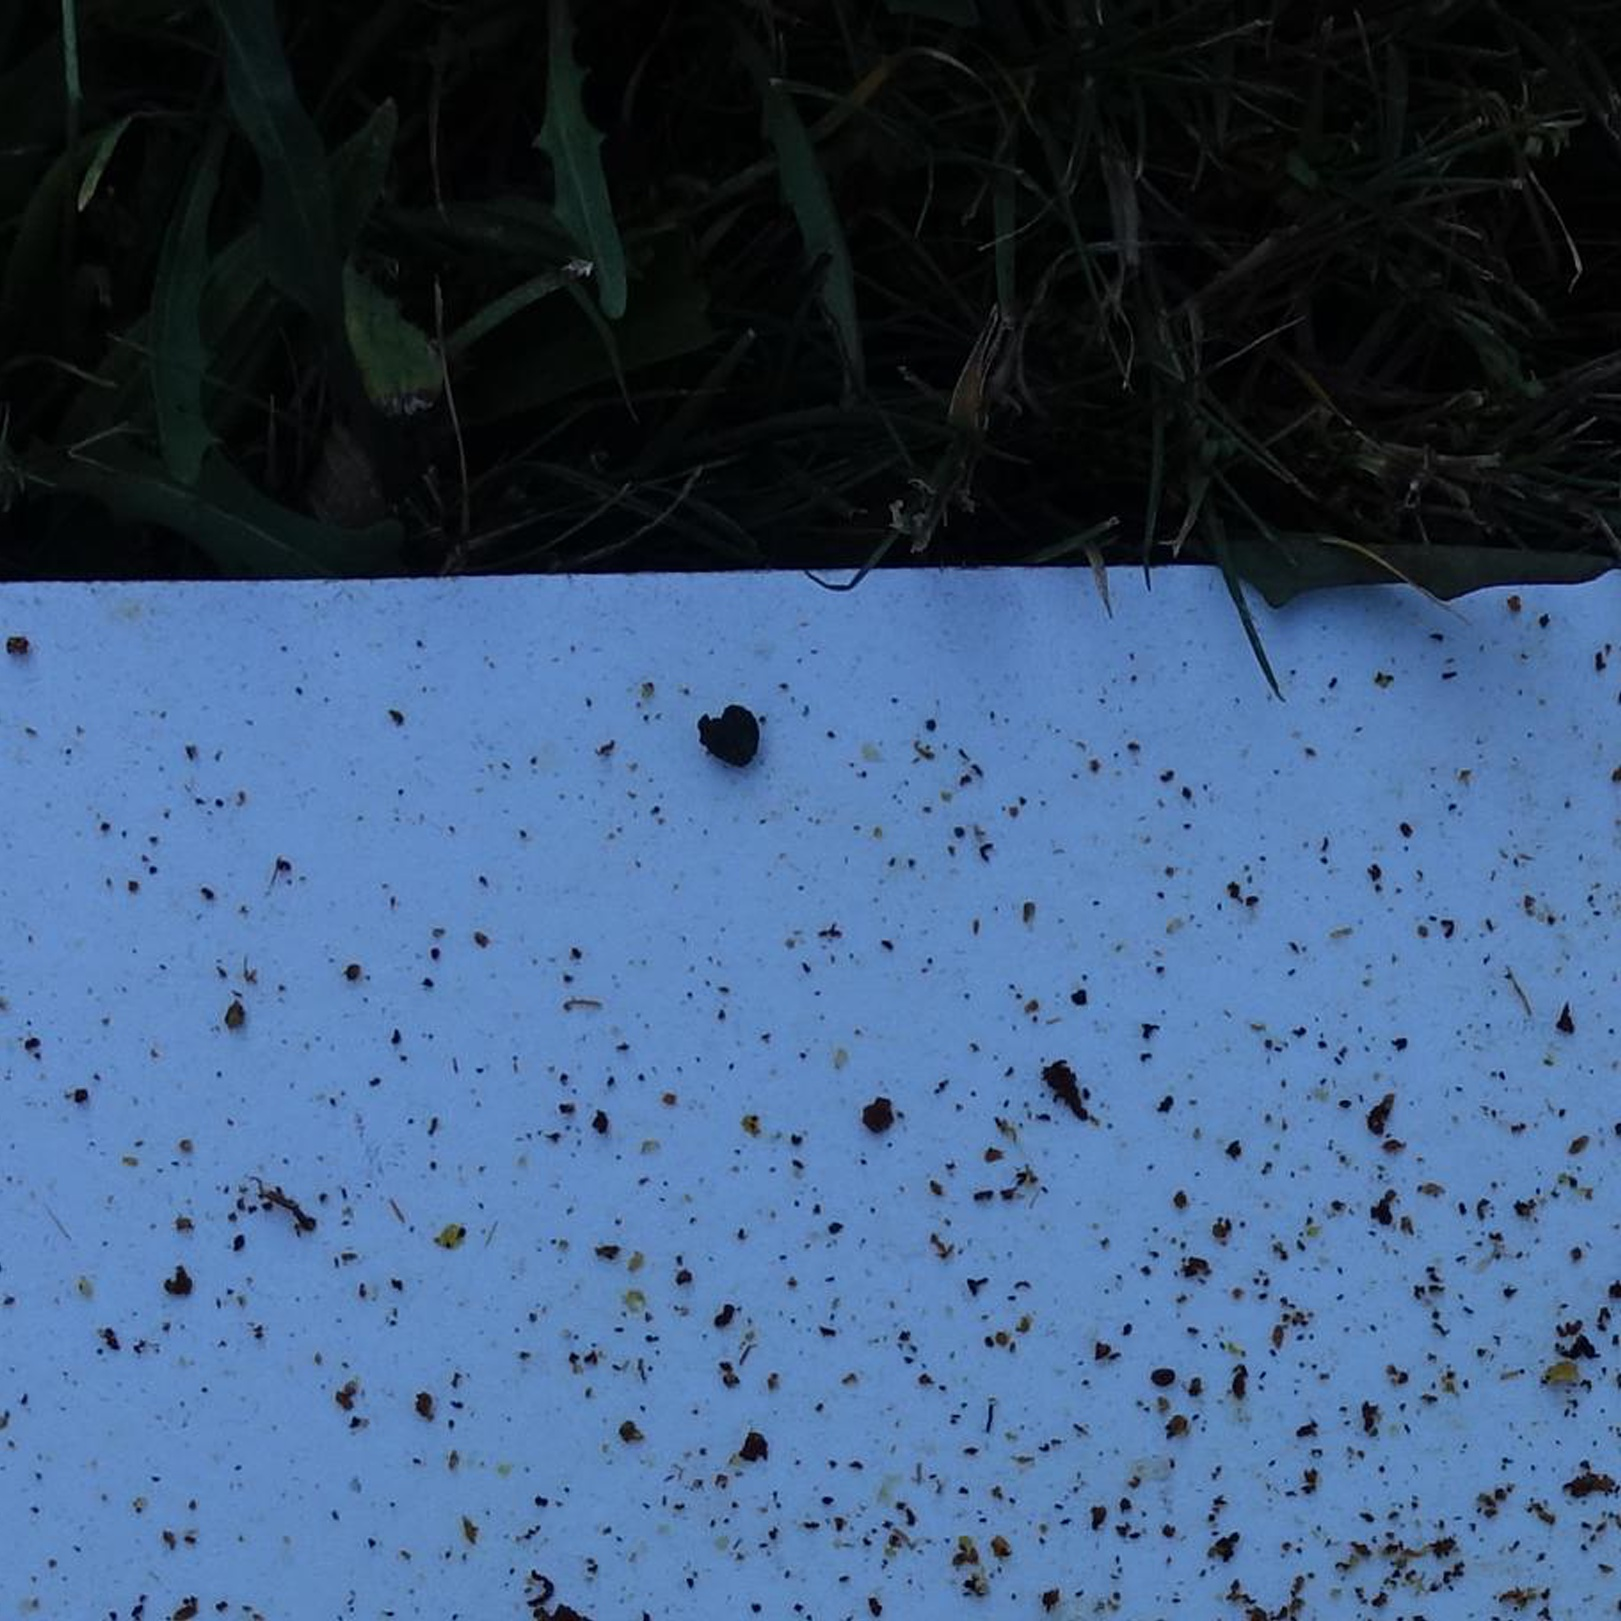Varroa: (1147, 1360, 1179, 1389)
